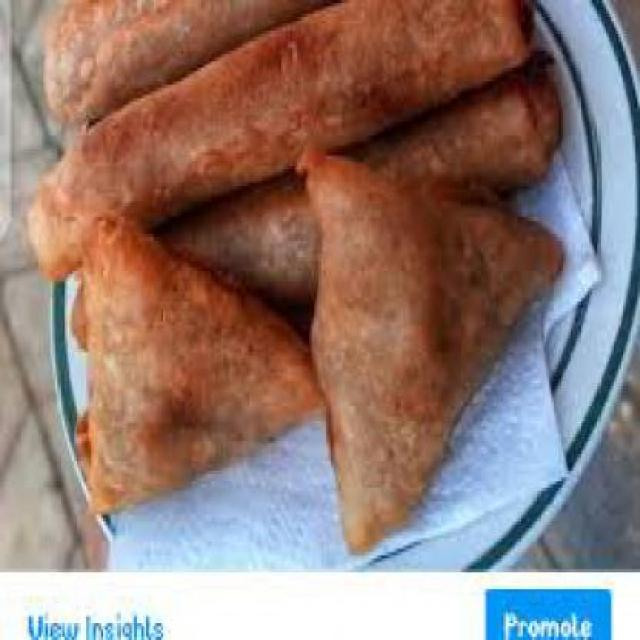samosa: (77, 155, 571, 556)
